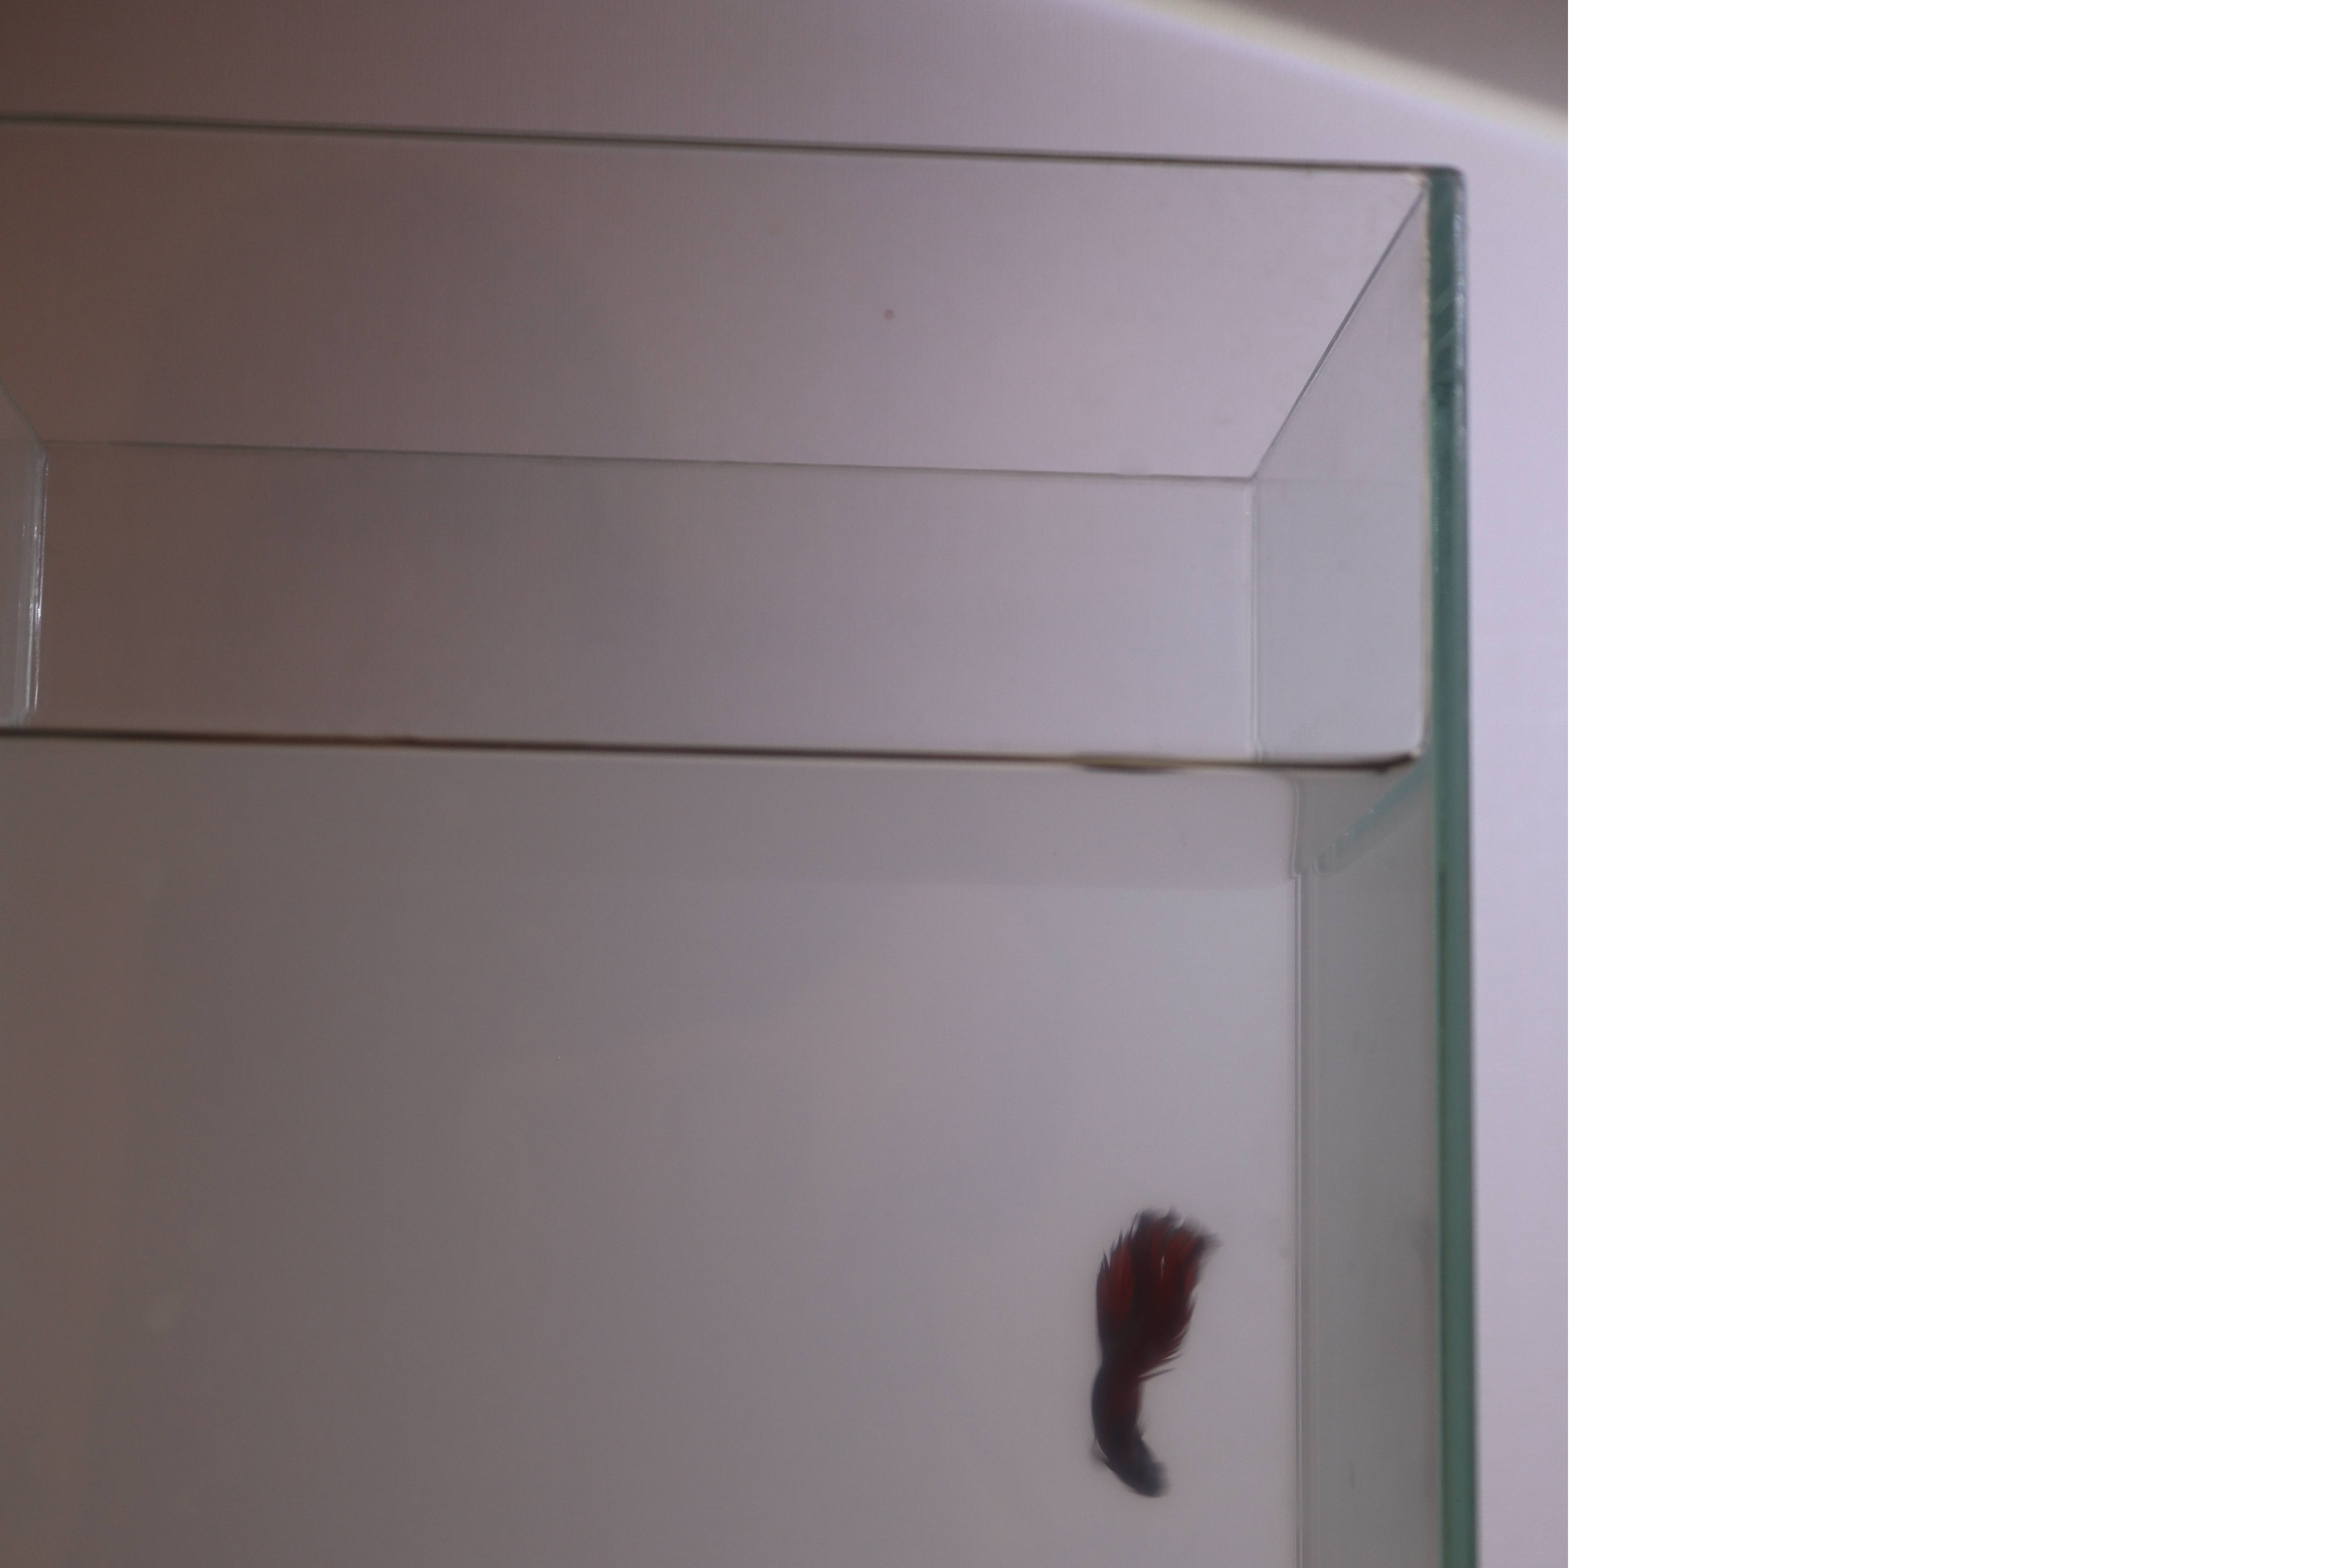fish: (1052, 1195, 1227, 1502)
